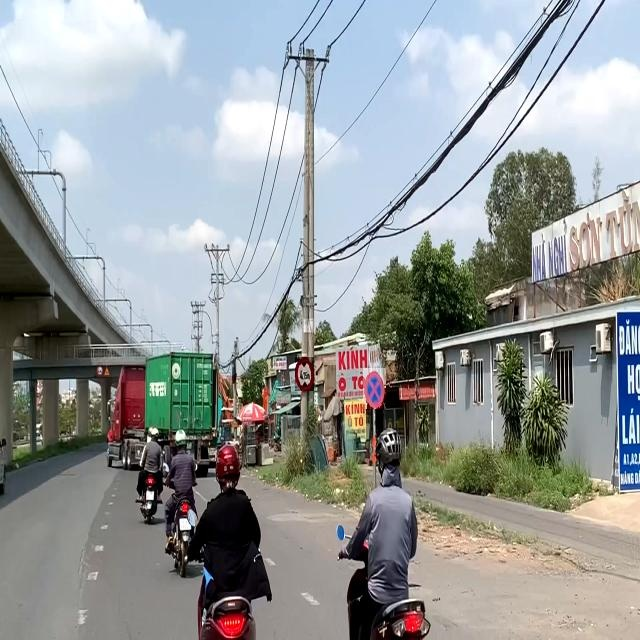bien_cam: (363, 368, 386, 409), (295, 357, 314, 391)
